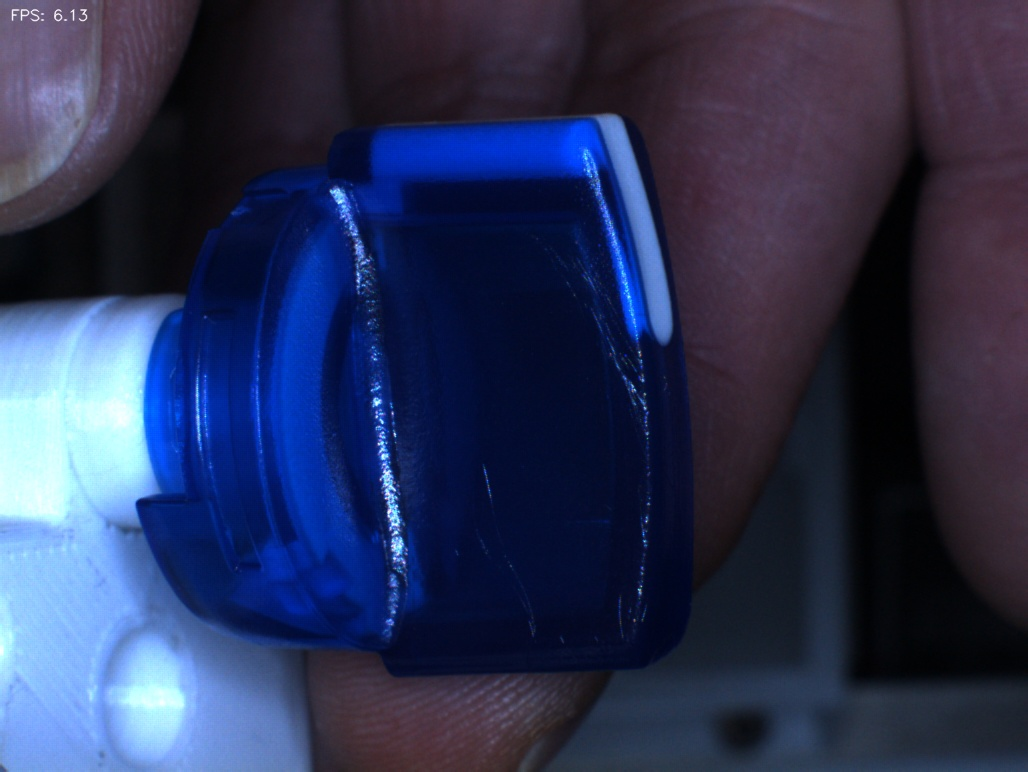Givrage: (529, 224, 647, 416), (452, 457, 552, 640), (589, 543, 662, 655)
